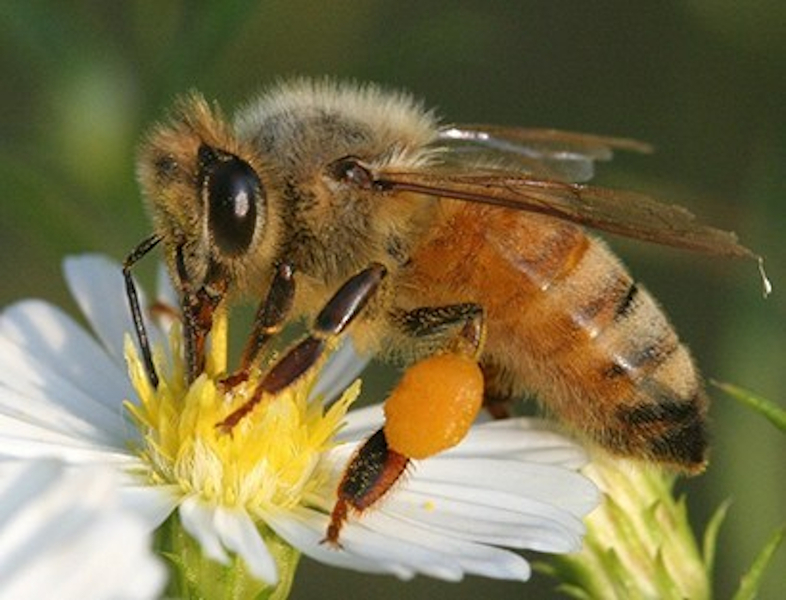abeja: (109, 44, 786, 564)
